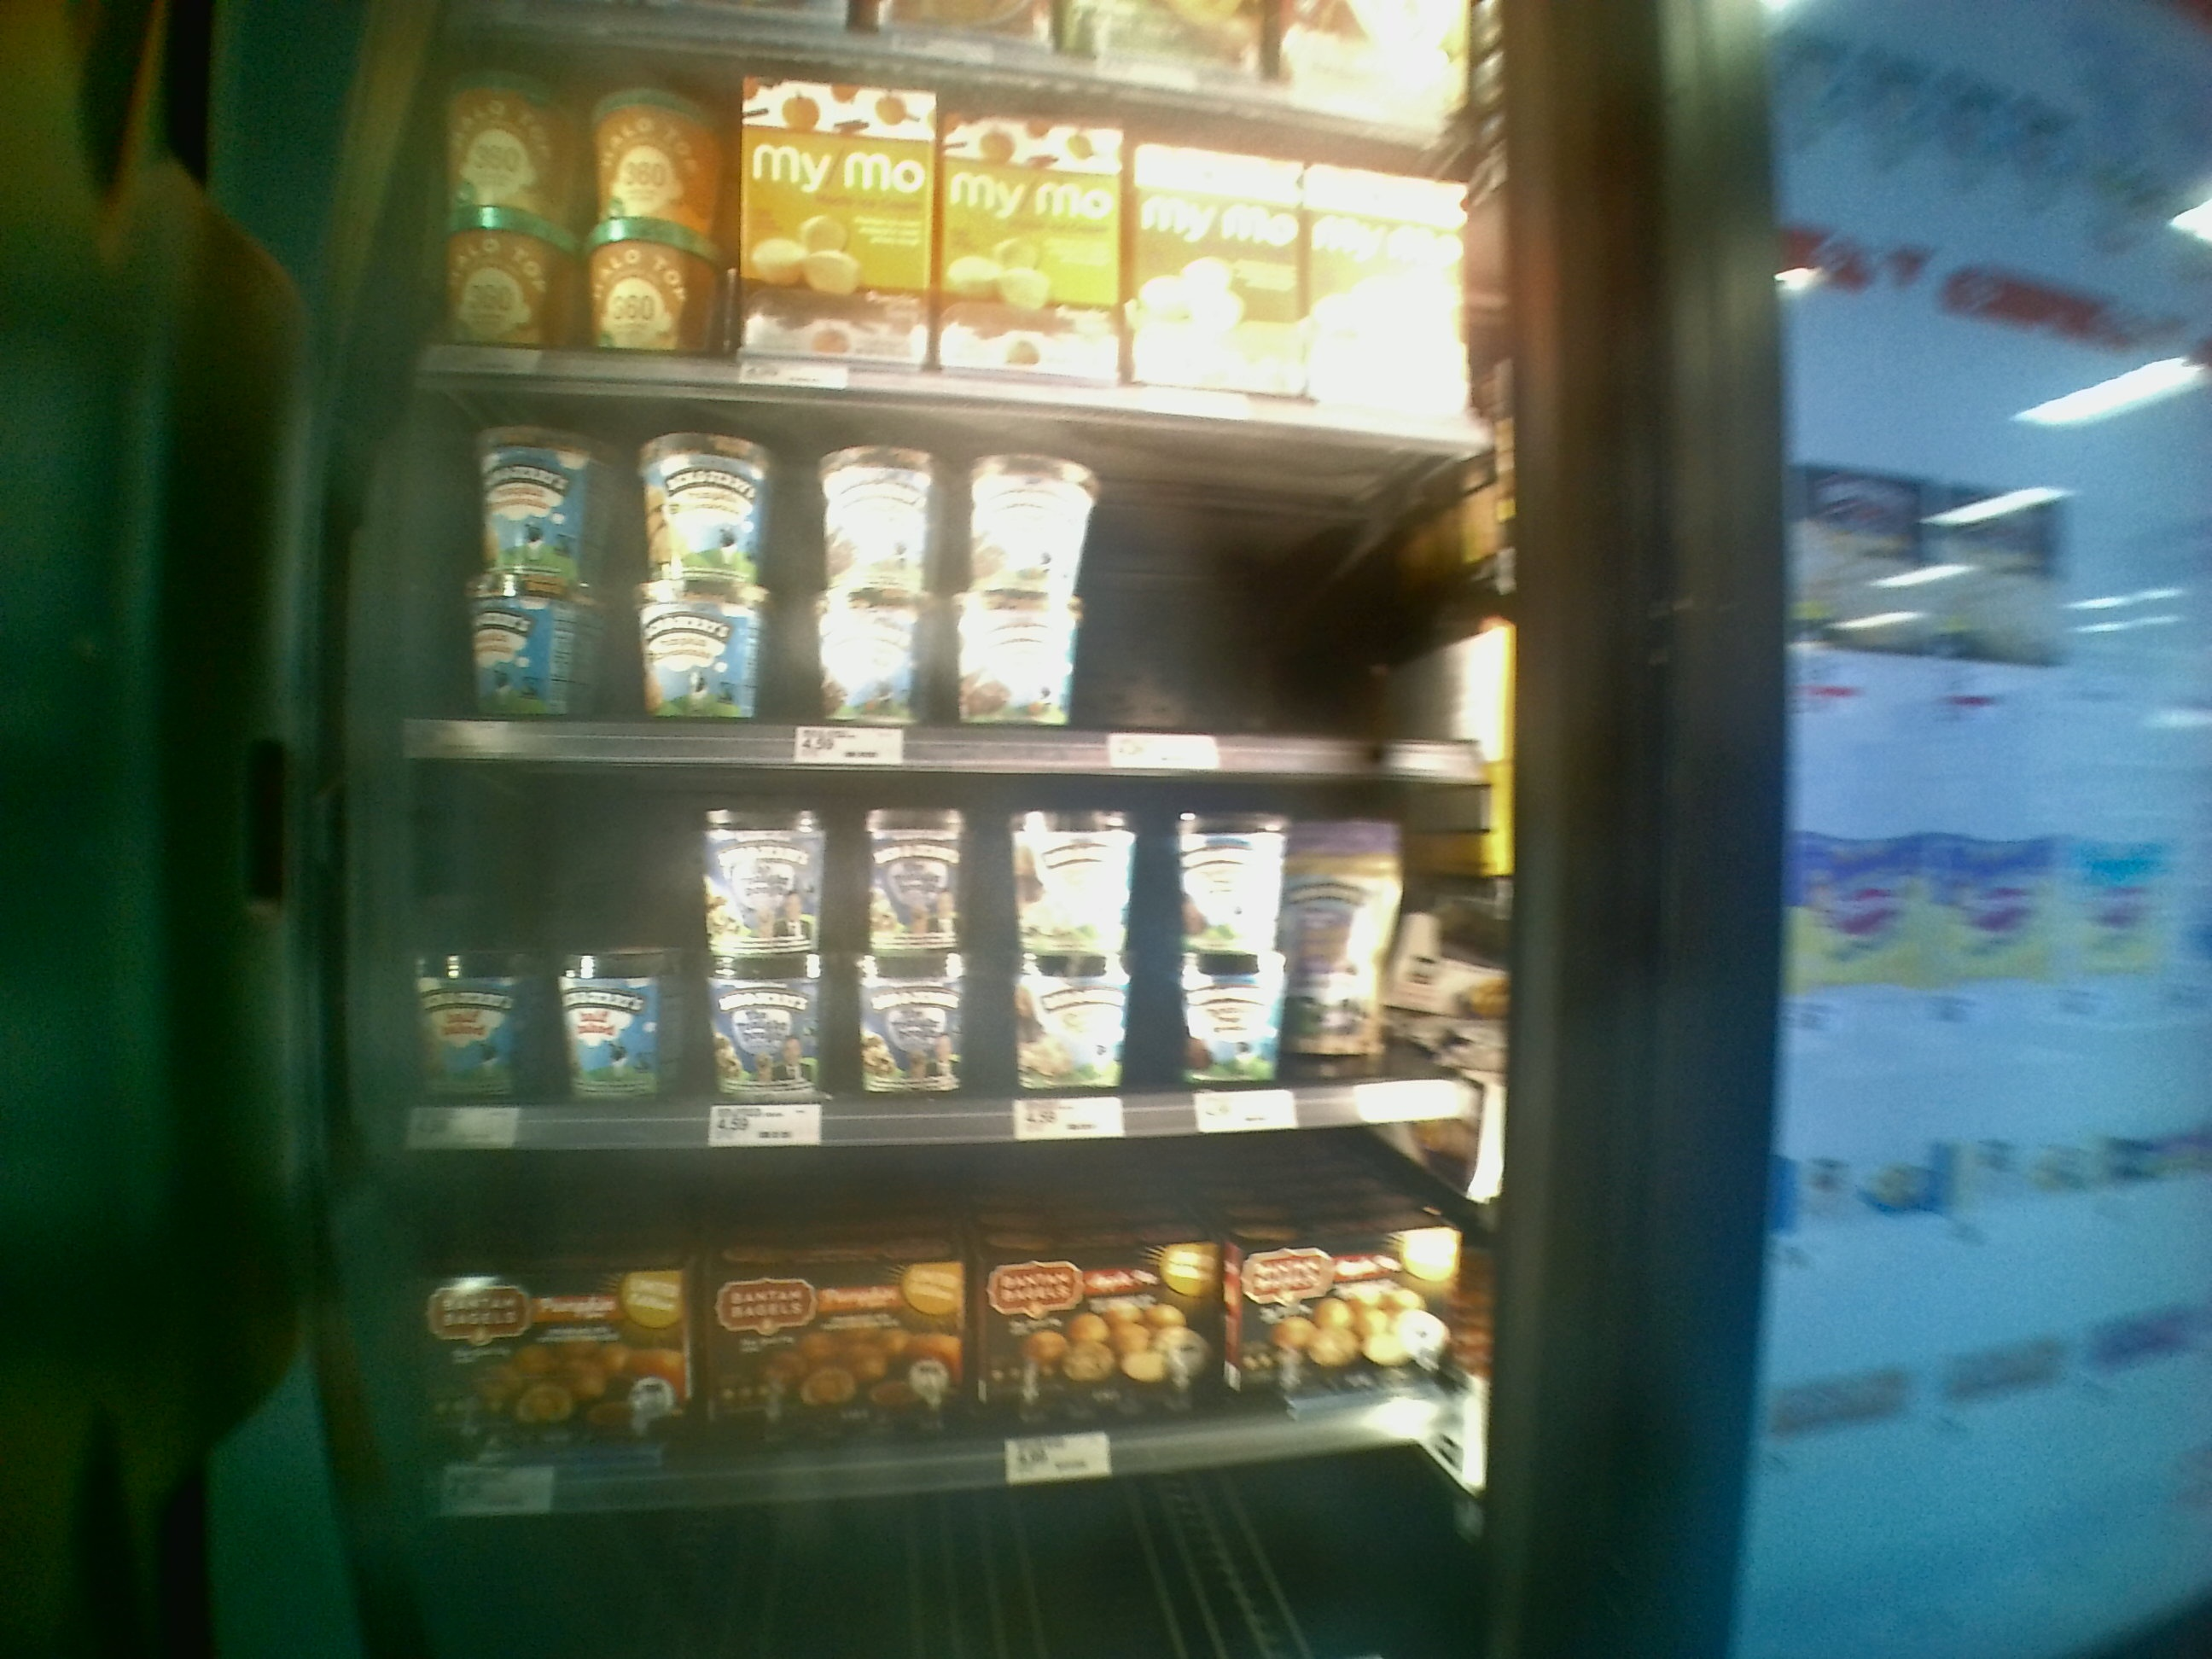shelf: (380, 362, 1475, 770), (408, 742, 1474, 1115), (359, 1117, 1463, 1438)
